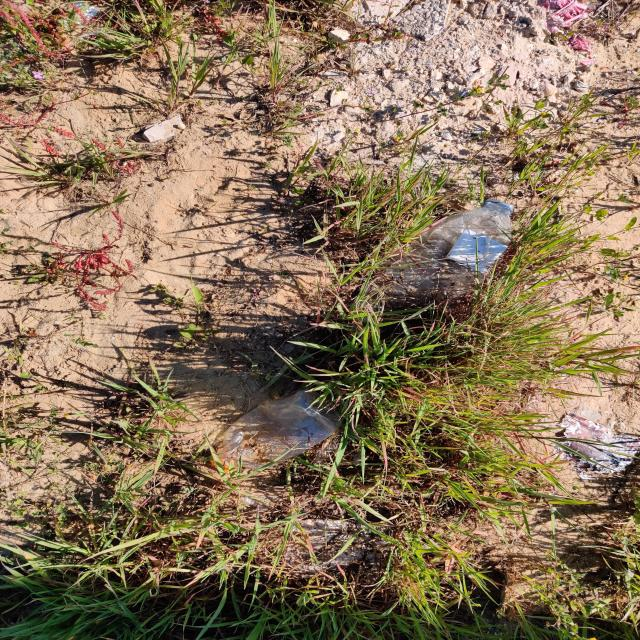litter: (332, 194, 540, 363), (182, 378, 359, 497)
